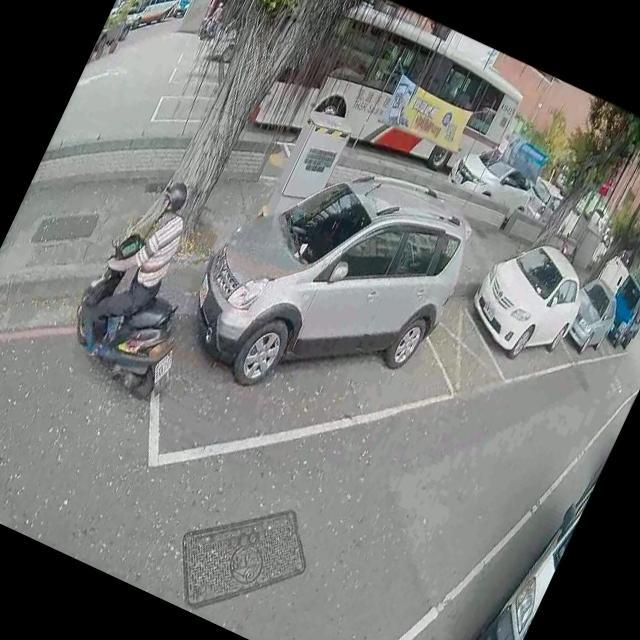person: (68, 166, 206, 371), (200, 0, 229, 40)
